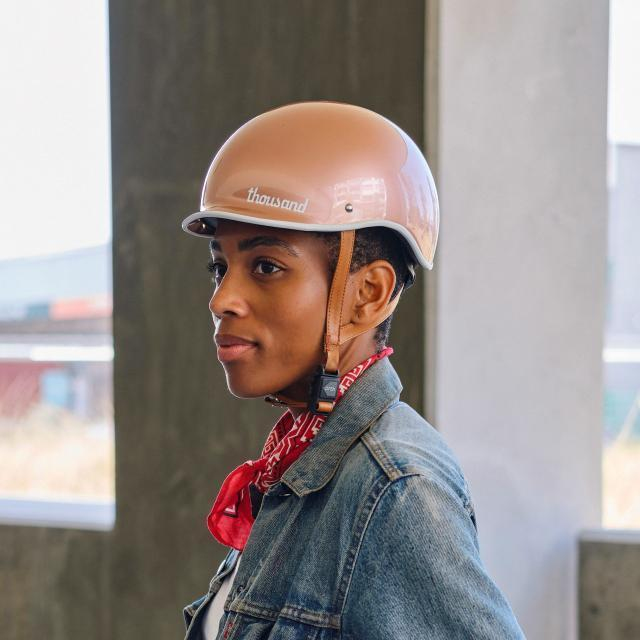helmet: (184, 98, 442, 420)
